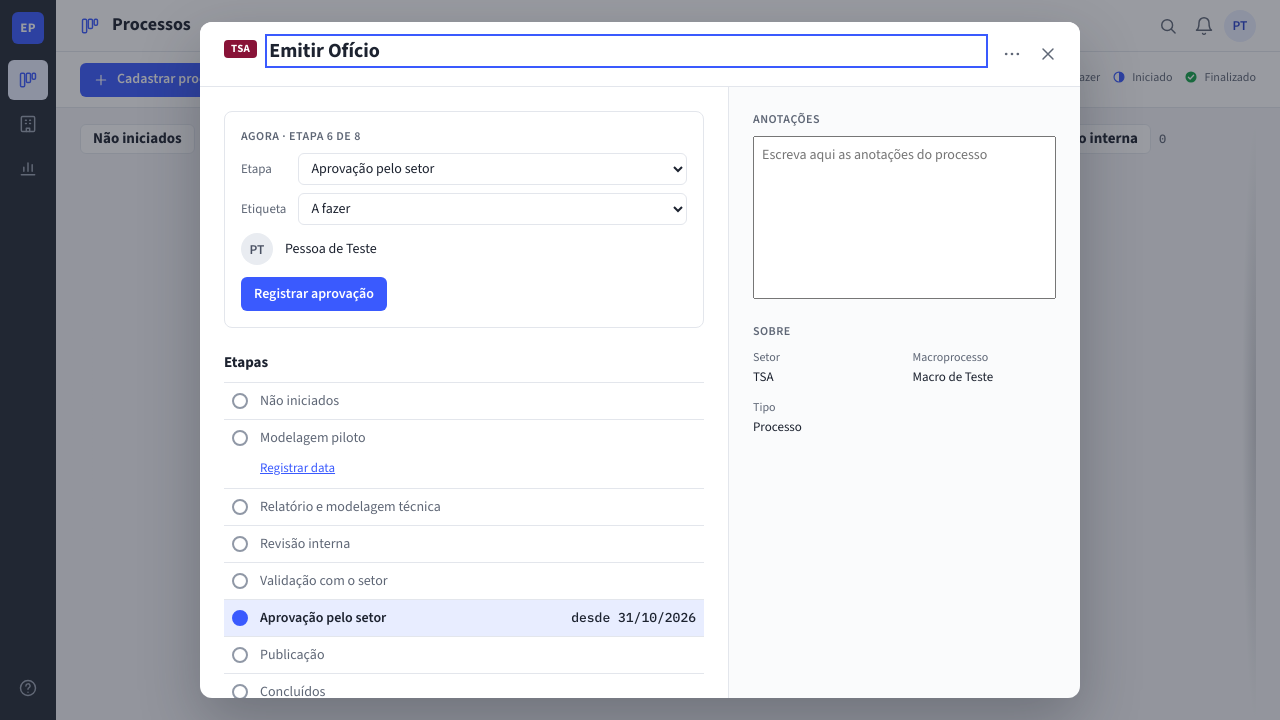
Test case: sem versão, a janela diz que o processo ainda não tem versão e o botão fica desabilitado
Click the button "Registrar aprovação" at (314, 294), box [241, 277, 387, 311]
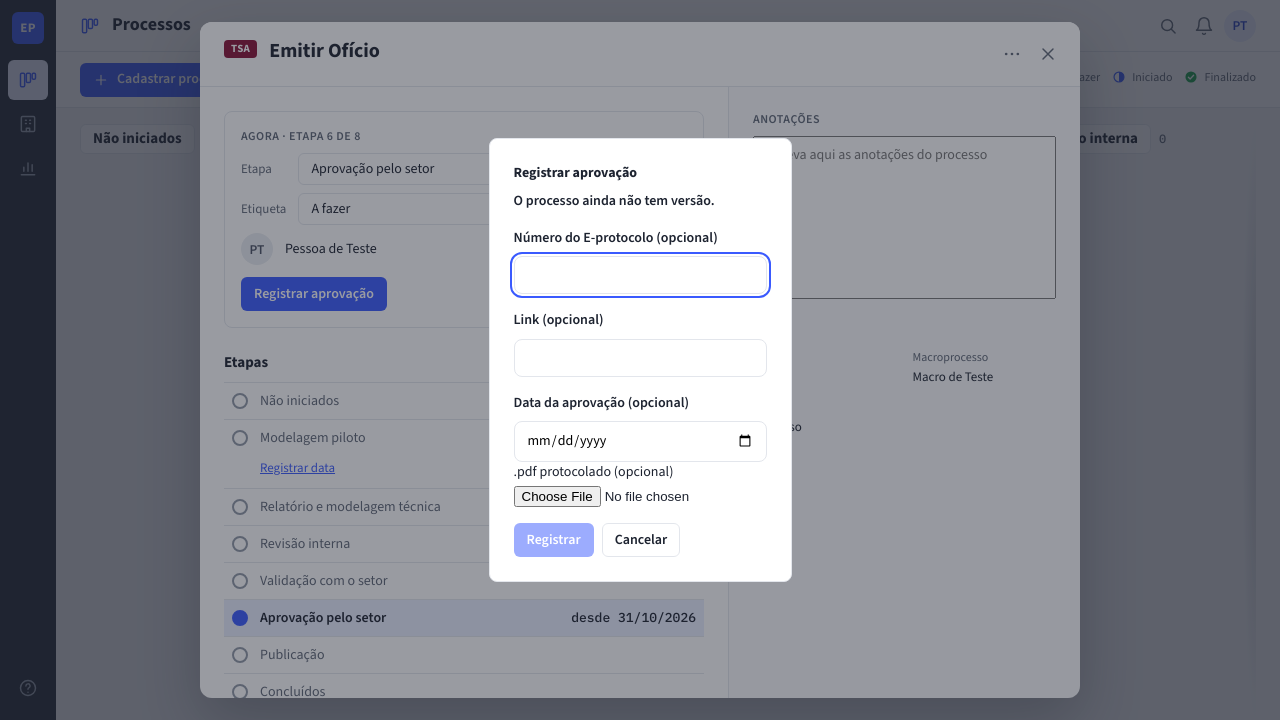
Now the text "O processo ainda não tem versão." is shown, box [514, 192, 715, 212]
Now the button "Registrar" is disabled, box [514, 523, 594, 557]
